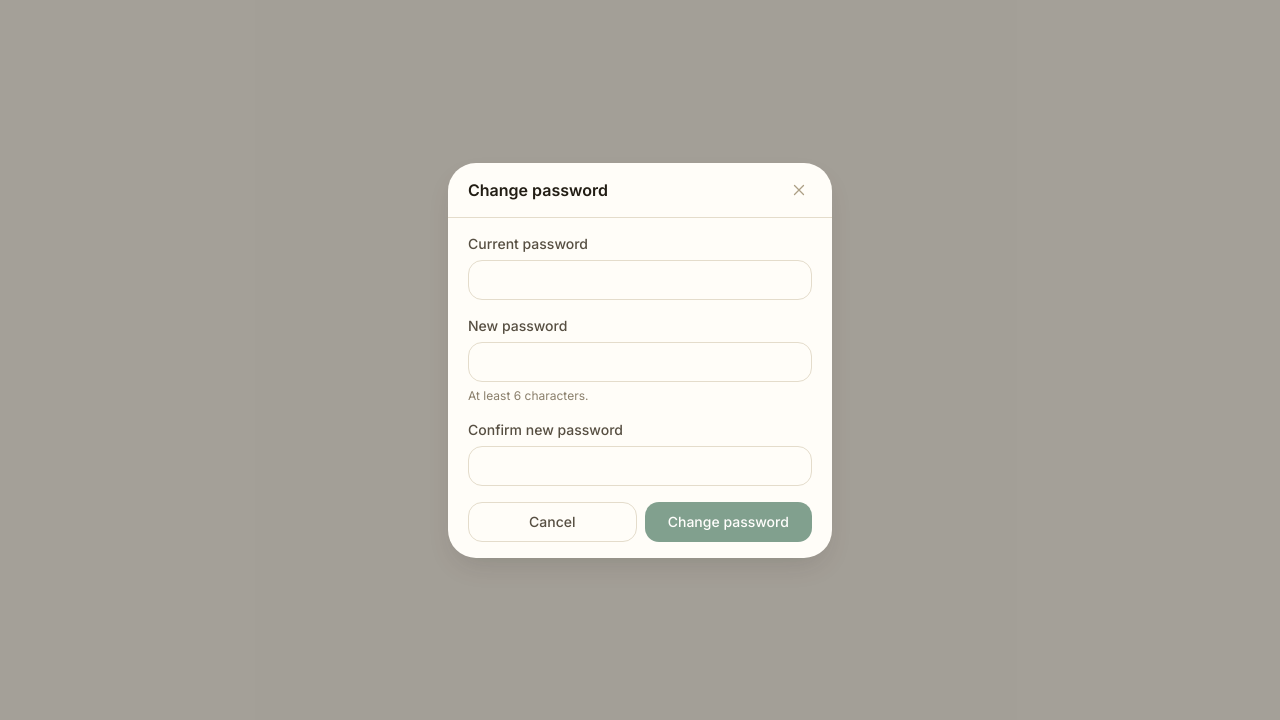
ChangePasswordModal › catches a mismatched confirmation without a round trip
Type "oldpass1" into the password field named "Current password" at (640, 280), box [468,260,812,300]
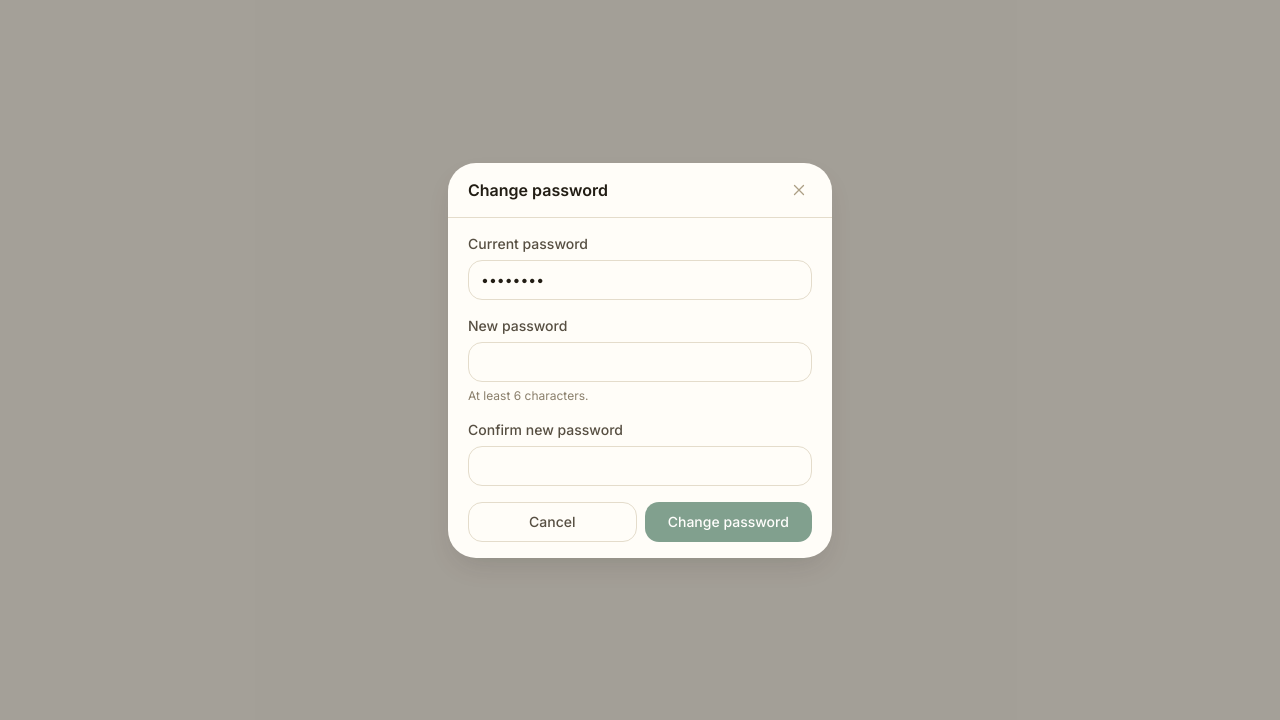
Type "newpass1" into the password field named "New password" at (640, 362), box [468,342,812,382]
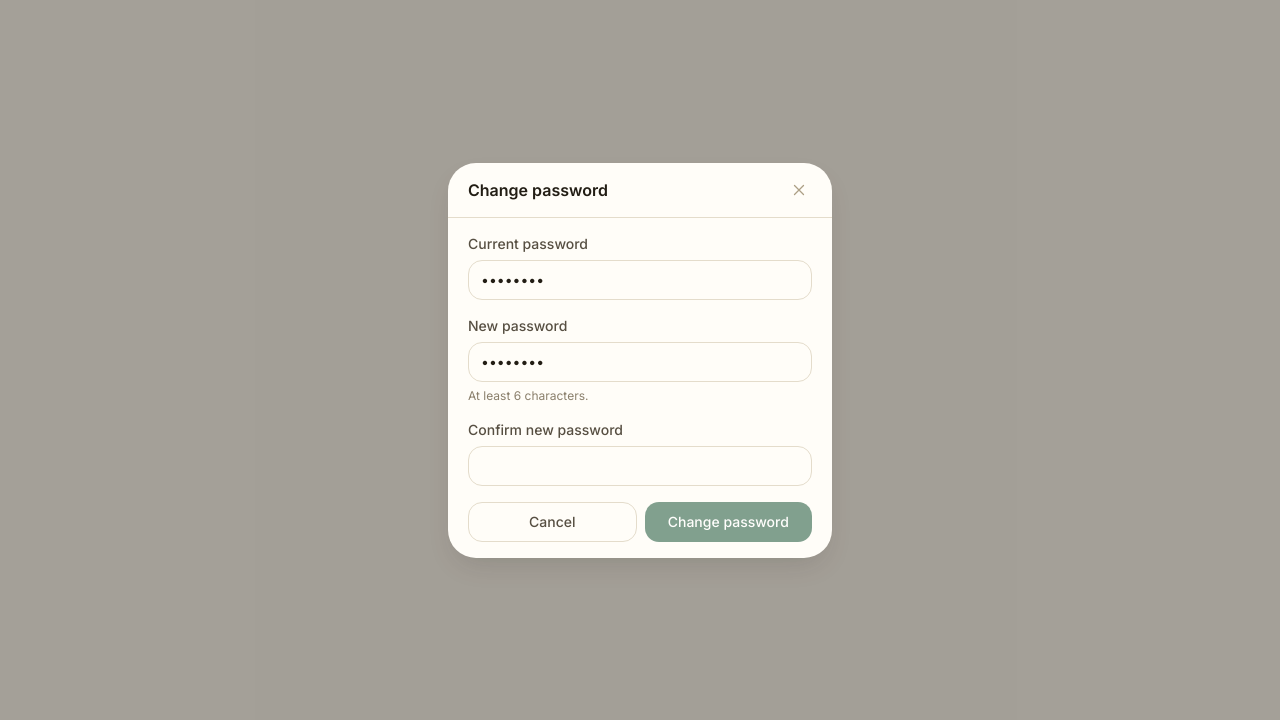
Type "newpass2" into the password field named "Confirm new password" at (640, 466), box [468,446,812,486]
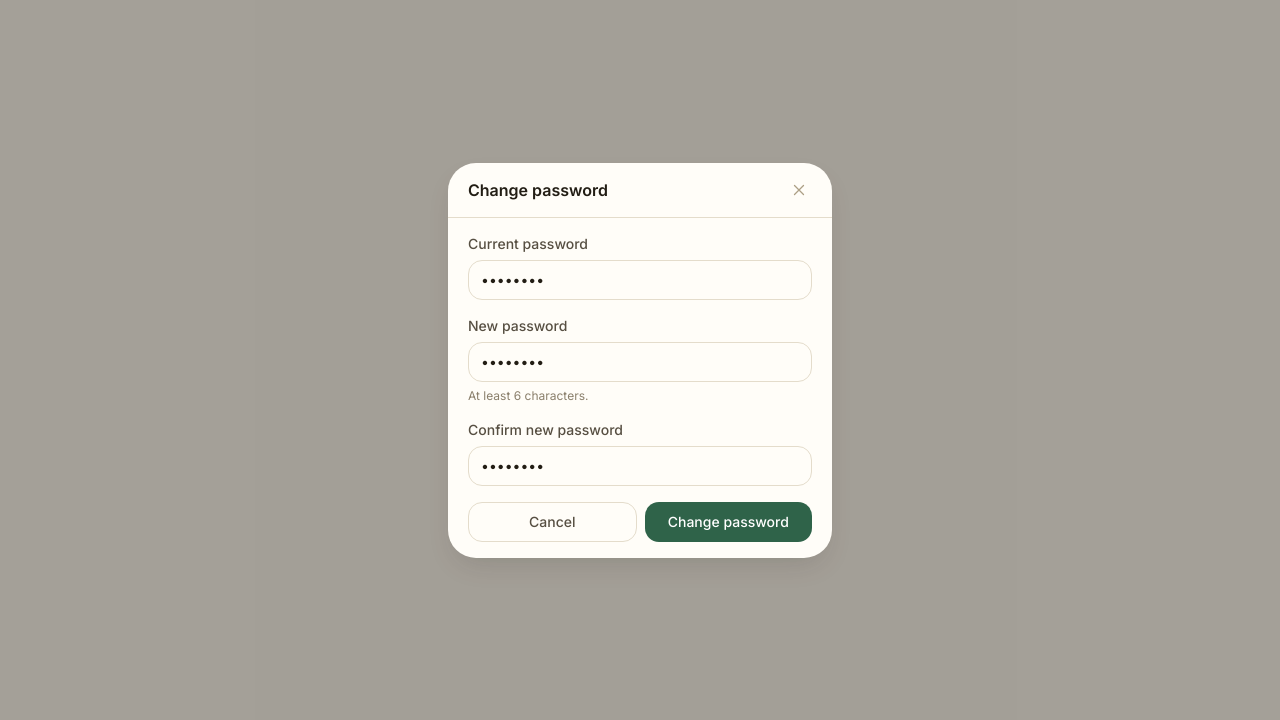
Click the button "Change password" at (728, 522), box [645,502,812,542]
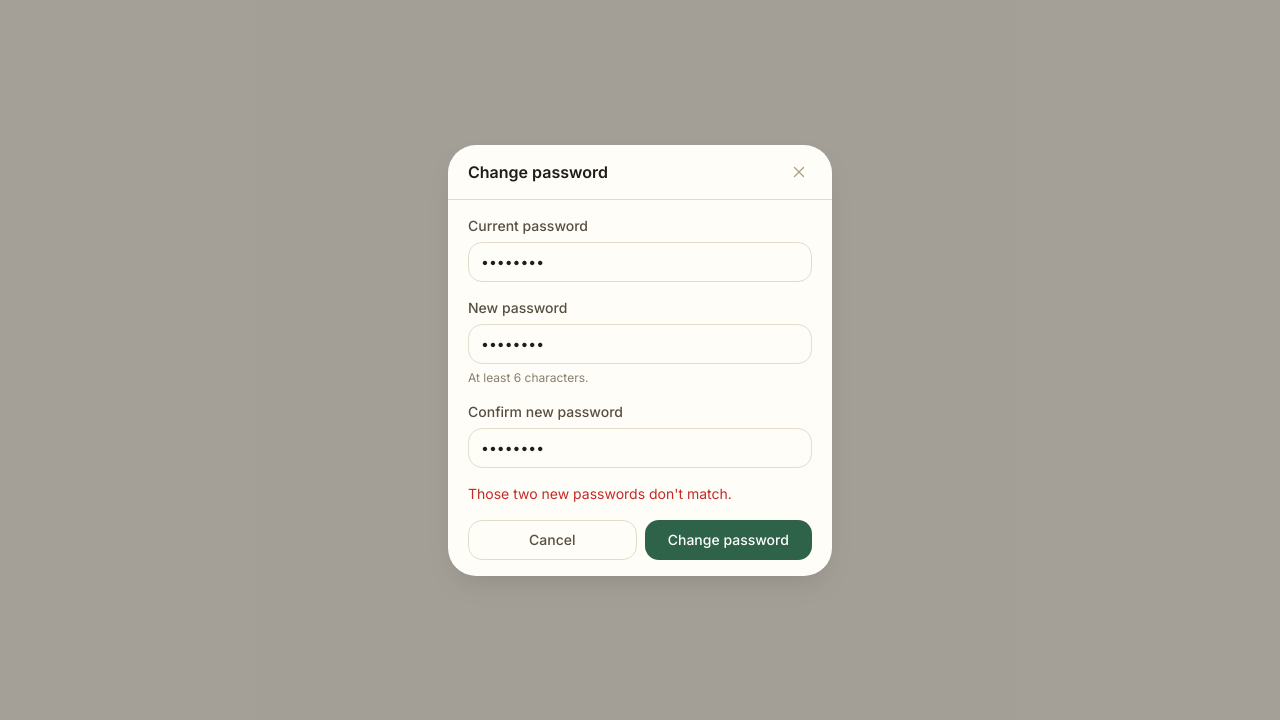
Result: the message shows "don't match" at [468,484,732,502]
